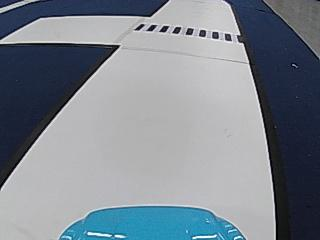CrossWalk: (131, 19, 242, 47)
